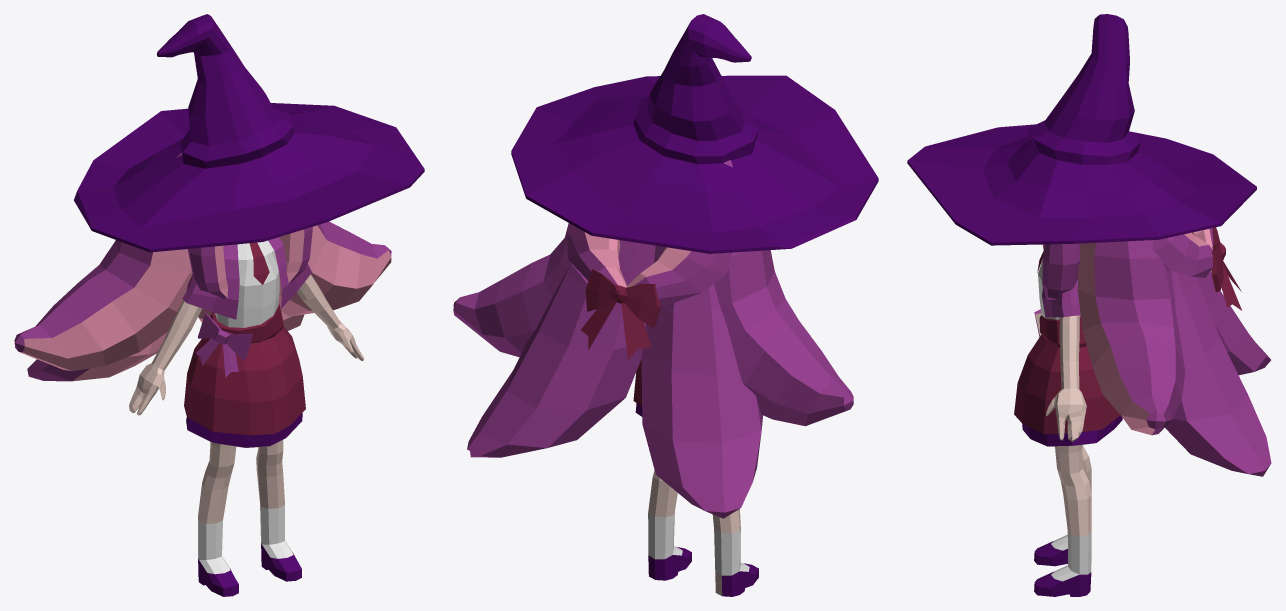
File: Nara.fbx
The picture shows the model from 3 angles, left to right: view 1: azimuth 30°, elevation 25°; view 2: azimuth 150°, elevation 25°; view 3: azimuth 270°, elevation 25°; orthographic projection. The views are drawn at different scales.
Parts seen in each view (by area): view 1: Cabelo; view 2: Cabelo; view 3: Cabelo.
Part boxes in pixels (bbox=[...]): Cabelo: bbox=[14, 14, 424, 596]; Cabelo: bbox=[453, 14, 878, 596]; Cabelo: bbox=[907, 14, 1271, 596].
Bounding box in the file's own units: 120 × 167 × 101.
